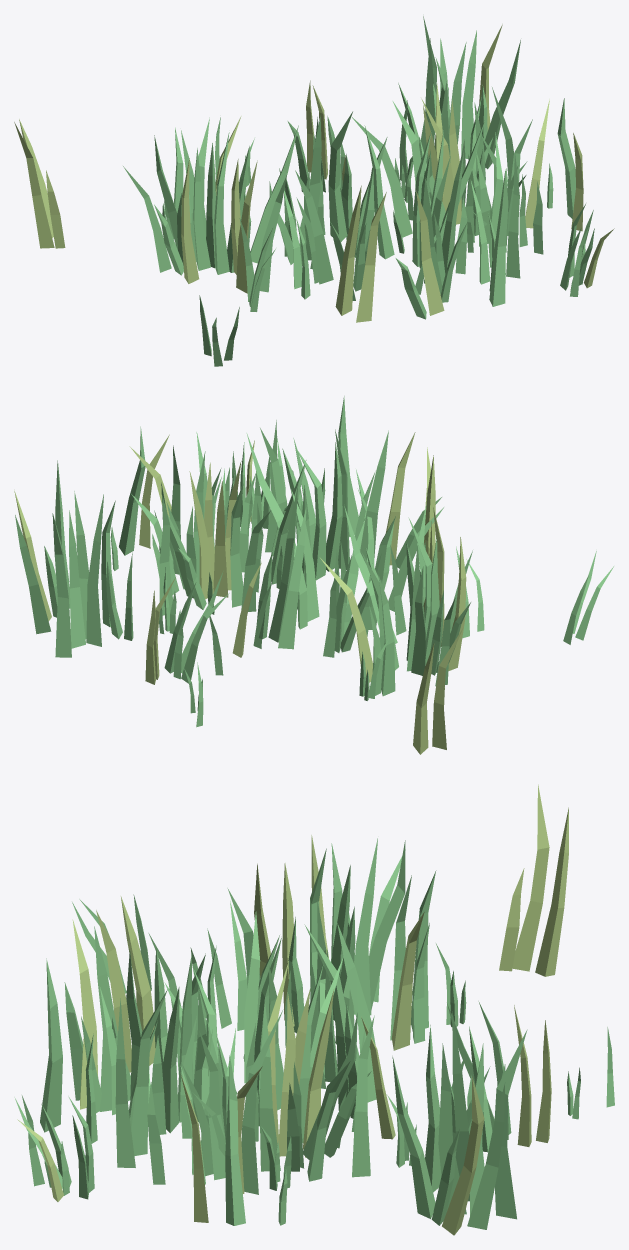
File: grasspatch2.glb
3 renders of one model, top to bottom at view 1: azimuth 30°, elevation 25°; view 2: azimuth 150°, elevation 25°; view 3: azimuth 270°, elevation 25°, orthographic. The views are drawn at different scales.
Parts seen in each view (by area): view 1: group1744197509, group9935422, group1743764551, group1617591992, group1681983211, group1005795212, group1495017289, group902223660, group1446851719, group443349435, group908757786, group1878667904 (+45 smaller); view 2: group774800547, group2095924070, group2057631278, group201890841, group1743764551, group1325005311, group945836210, group54891894, group1255547812, group612556706, group337239005, group1495017289 (+55 smaller); view 3: group1495017289, group1744197509, group54891894, group360301143, group1661925368, group774800547, group2043014497, group46854911, group1697339476, group252032136, group1255547812, group678362861 (+65 smaller).
Boxes of the visible parts, left/top/right/bottom form: group1744197509: left=489, top=169, right=508, bottom=306; group9935422: left=335, top=185, right=361, bottom=315; group1743764551: left=328, top=111, right=352, bottom=241; group1617591992: left=356, top=192, right=386, bottom=322; group1681983211: left=416, top=190, right=444, bottom=315; group1005795212: left=214, top=132, right=229, bottom=274; group1495017289: left=14, top=122, right=54, bottom=248; group902223660: left=352, top=117, right=412, bottom=237; group1446851719: left=181, top=158, right=199, bottom=283; group443349435: left=295, top=170, right=333, bottom=284; group908757786: left=364, top=125, right=394, bottom=259; group1878667904: left=193, top=148, right=210, bottom=270; group774800547: left=52, top=513, right=71, bottom=657; group2095924070: left=86, top=494, right=103, bottom=646; group2057631278: left=278, top=507, right=306, bottom=649; group201890841: left=69, top=510, right=85, bottom=648; group1743764551: left=268, top=484, right=298, bottom=642; group1325005311: left=295, top=447, right=326, bottom=580; group945836210: left=326, top=442, right=342, bottom=571; group54891894: left=119, top=426, right=145, bottom=555; group1255547812: left=15, top=515, right=51, bottom=634; group612556706: left=230, top=484, right=243, bottom=607; group337239005: left=378, top=575, right=395, bottom=696; group1495017289: left=432, top=628, right=462, bottom=749; group1495017289: left=512, top=784, right=549, bottom=971; group1744197509: left=40, top=958, right=62, bottom=1132; group54891894: left=225, top=1055, right=245, bottom=1225; group360301143: left=535, top=807, right=568, bottom=976; group1661925368: left=442, top=1076, right=484, bottom=1235; group774800547: left=494, top=1029, right=527, bottom=1219; group2043014497: left=392, top=1056, right=435, bottom=1218; group46854911: left=352, top=1015, right=374, bottom=1177; group1697339476: left=131, top=989, right=167, bottom=1155; group252032136: left=241, top=1009, right=283, bottom=1194; group1255547812: left=467, top=1082, right=505, bottom=1229; group678362861: left=115, top=998, right=135, bottom=1167.
Size of the model in its own units: 0.9109 by 0.295 by 0.7792.
